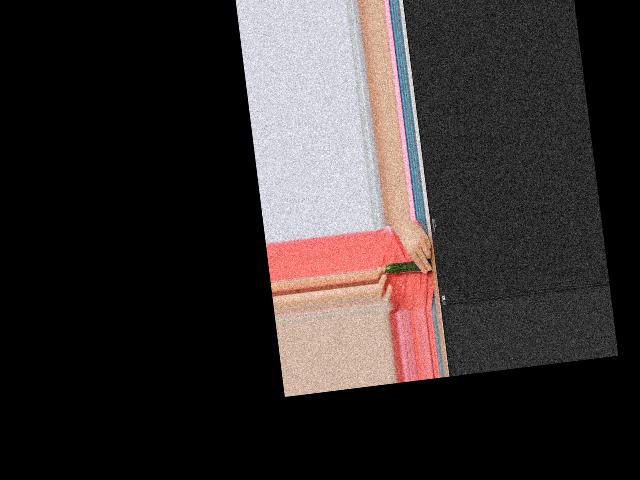cucumber: (384, 259, 421, 275)
